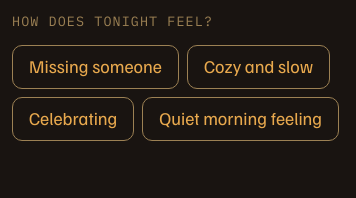
it: choosing celebrates walks to room 003 and answers in voice
Click the button "Celebrating": [73, 118] box x1=12 y1=96 x2=134 y2=140
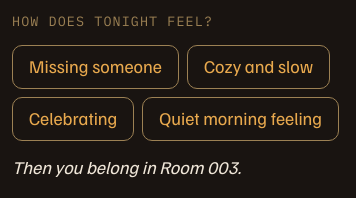
Expected: the text "Then you belong in Room 003." is shown, x1=12 y1=152 x2=241 y2=181
